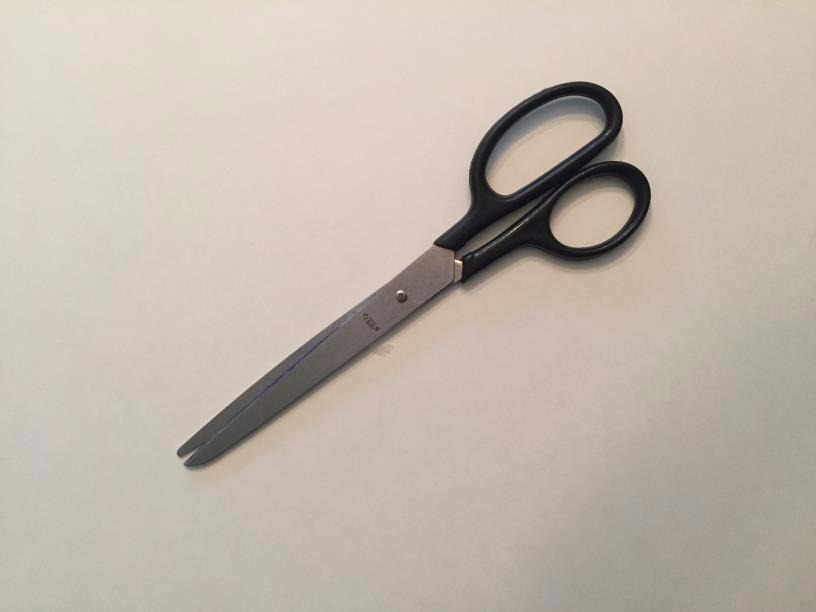scissor: (151, 50, 691, 502)
